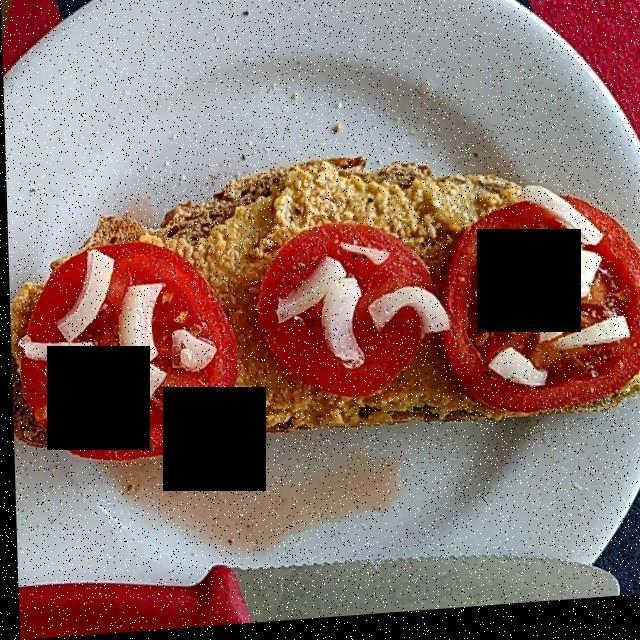bread: (135, 180, 636, 437)
hummus: (207, 192, 487, 442)
onion: (51, 168, 609, 460)
tomato: (15, 177, 636, 483)
